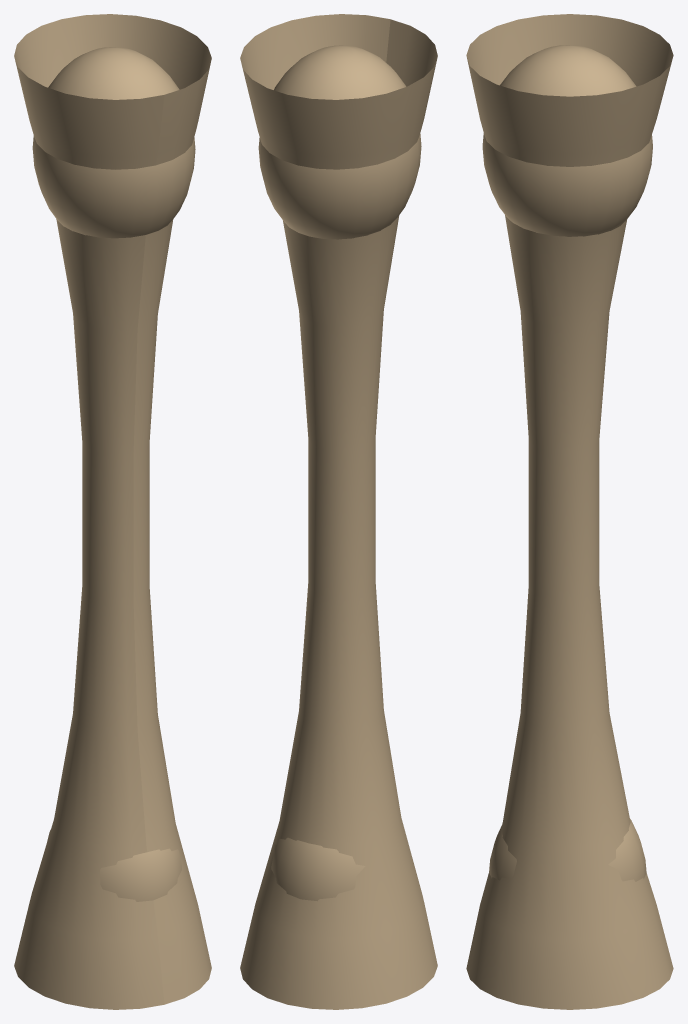
Rendered from right_metacarpal_4.glb.
3 renders of one model, left to right at view 1: azimuth 30°, elevation 25°; view 2: azimuth 150°, elevation 25°; view 3: azimuth 270°, elevation 25°, orthographic.
Parts seen in each view (by area): view 1: right_metacarpal_4:diaphysis, right_metacarpal_4:proximal-envelope, right_metacarpal_4:distal-envelope; view 2: right_metacarpal_4:diaphysis, right_metacarpal_4:proximal-envelope, right_metacarpal_4:distal-envelope; view 3: right_metacarpal_4:diaphysis, right_metacarpal_4:proximal-envelope, right_metacarpal_4:distal-envelope.
Boxes of the visible parts, bbox=[...] form: right_metacarpal_4:diaphysis: bbox=[14, 14, 211, 1009]; right_metacarpal_4:proximal-envelope: bbox=[32, 47, 195, 238]; right_metacarpal_4:distal-envelope: bbox=[47, 830, 181, 901]; right_metacarpal_4:diaphysis: bbox=[240, 14, 437, 1009]; right_metacarpal_4:proximal-envelope: bbox=[258, 45, 421, 239]; right_metacarpal_4:distal-envelope: bbox=[271, 837, 365, 901]; right_metacarpal_4:diaphysis: bbox=[466, 14, 673, 1009]; right_metacarpal_4:proximal-envelope: bbox=[482, 45, 652, 236]; right_metacarpal_4:distal-envelope: bbox=[489, 819, 646, 881].
Size of the model in its own units: 0.0799 by 0.4136 by 0.0846.
